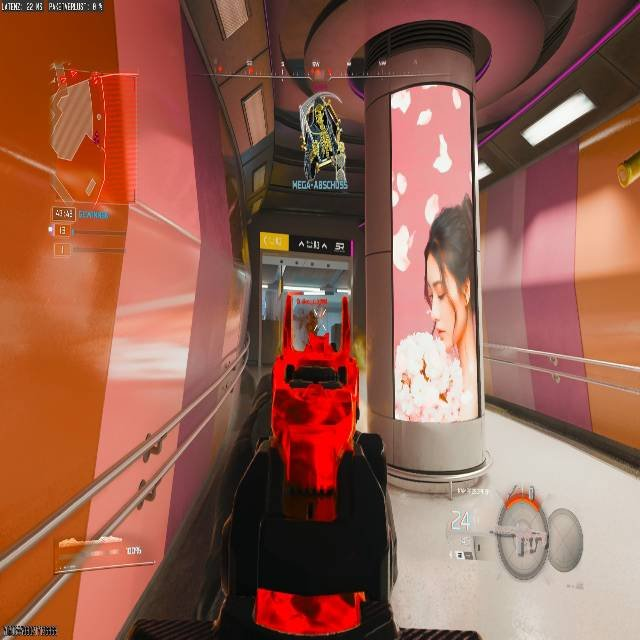player: (250, 321, 398, 637), (394, 328, 466, 419), (297, 92, 345, 177), (305, 309, 319, 339)
